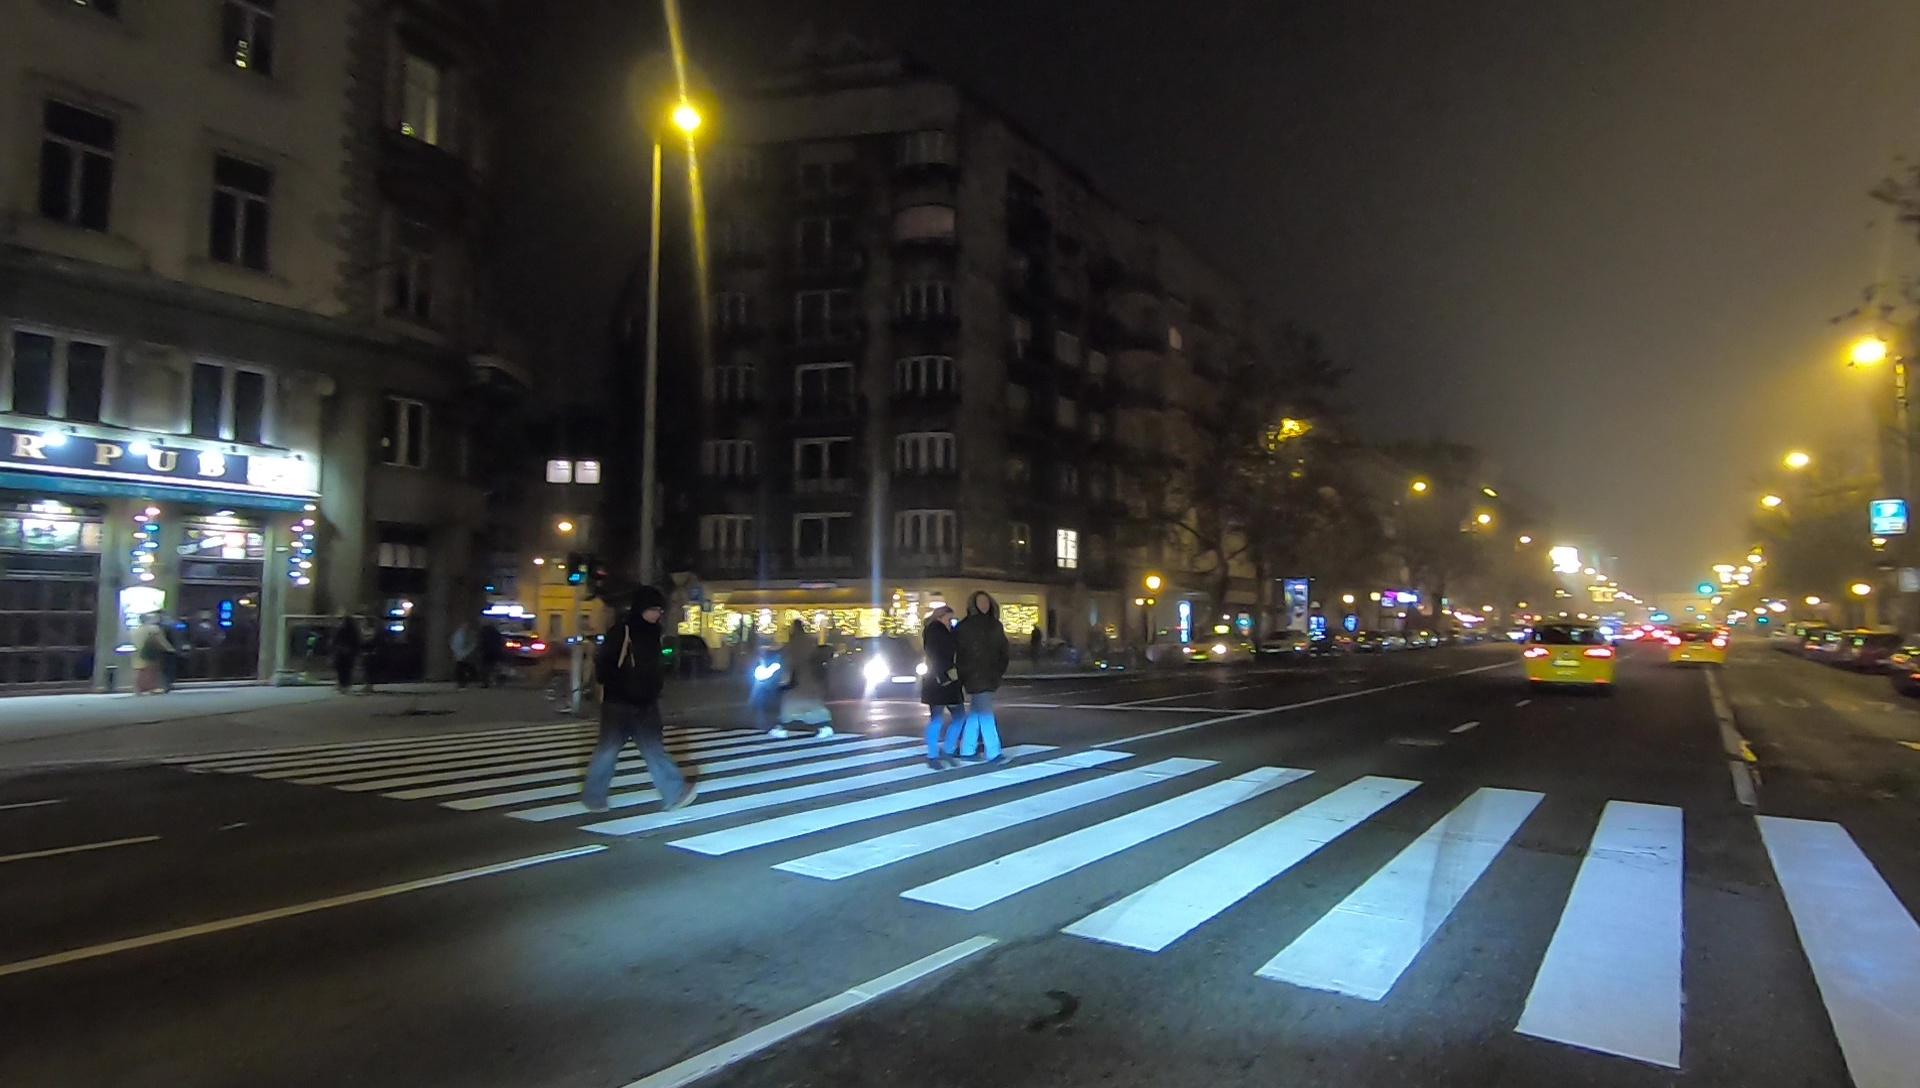person: (573, 574, 701, 808), (958, 591, 1014, 761), (769, 615, 838, 741), (919, 606, 964, 767), (132, 606, 167, 689), (449, 608, 480, 684), (332, 604, 360, 689), (160, 615, 182, 691)
